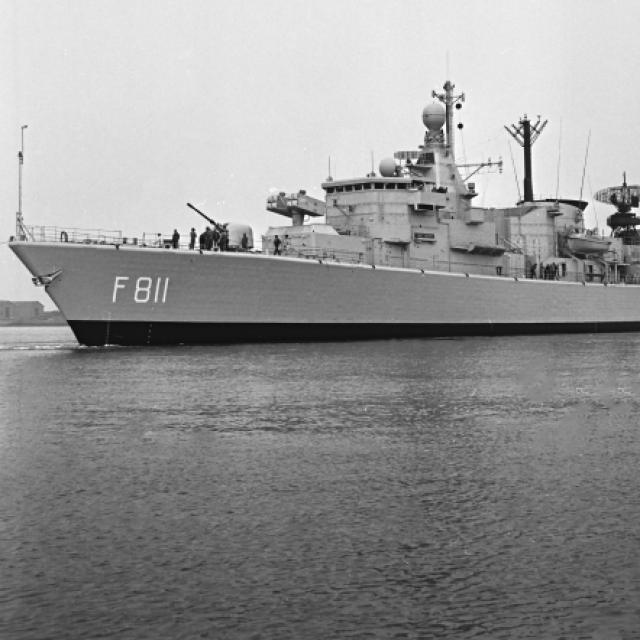Fragata: (5, 18, 640, 354)
